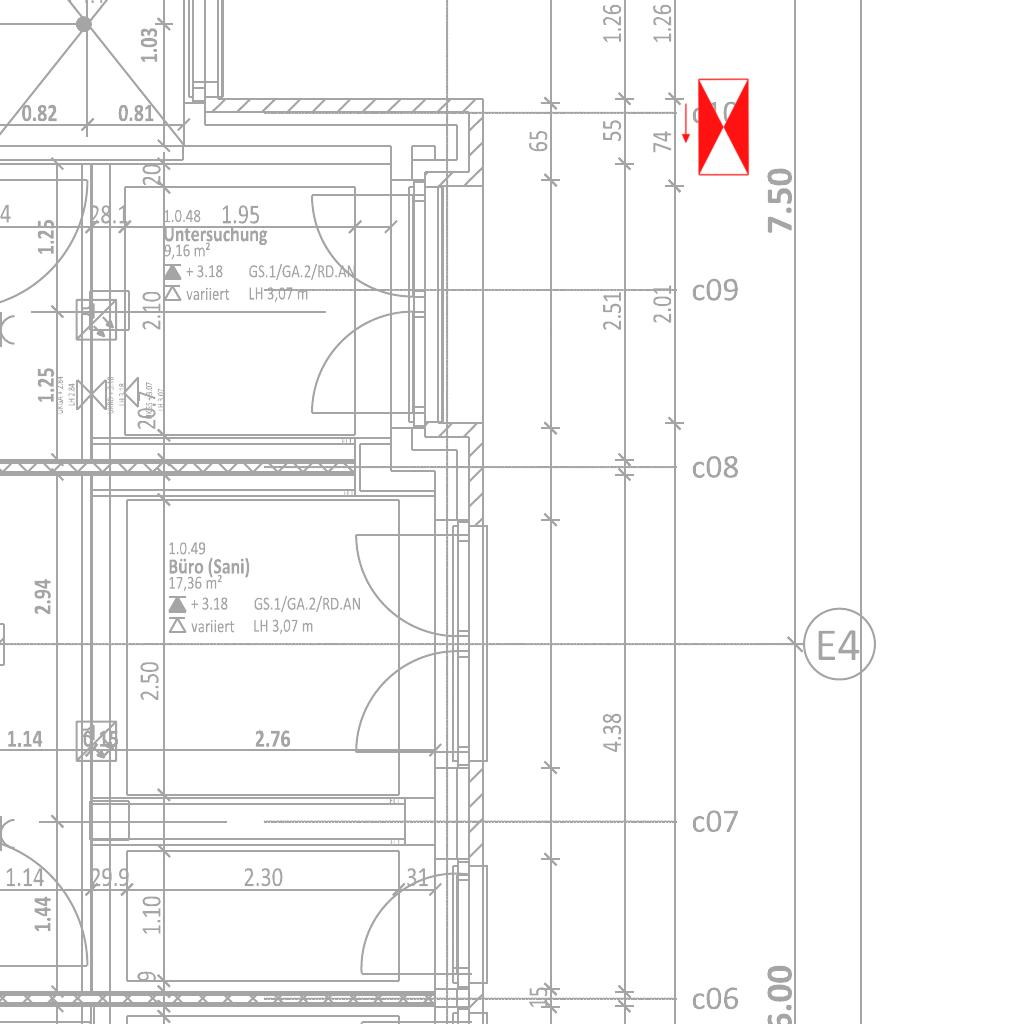Fluchtwegpiktogramm: (679, 75, 752, 179)
